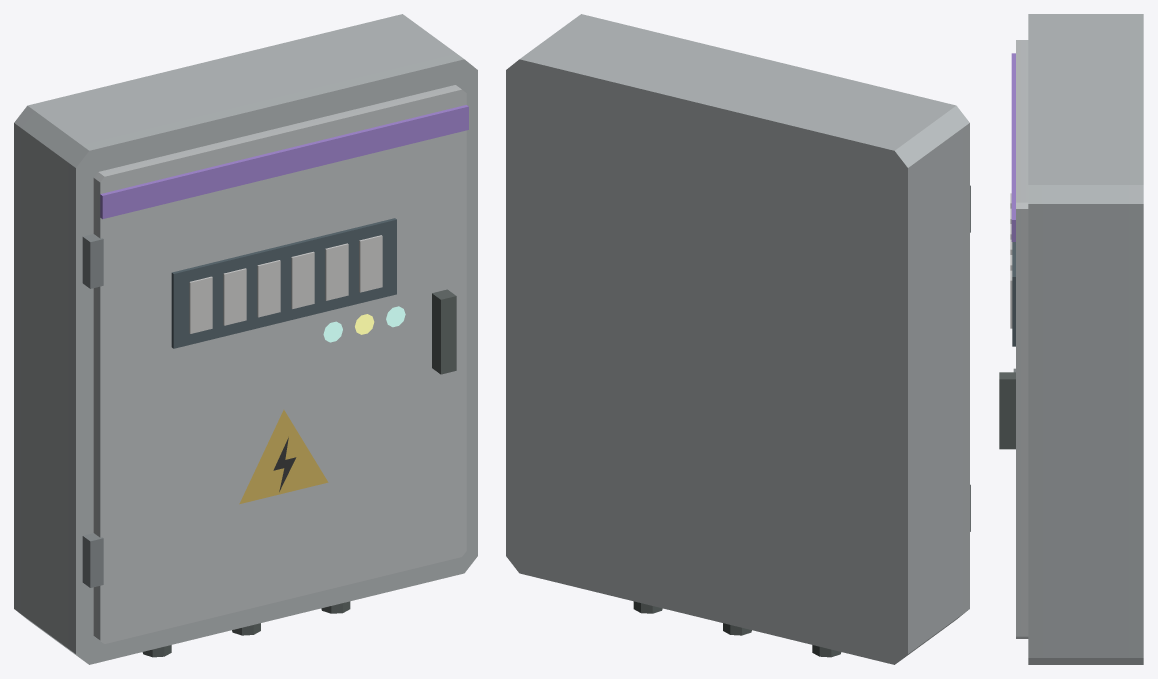
The model's file is switchboard.glb.
3 views of the same model, side by side, from view 1: azimuth 30°, elevation 25°; view 2: azimuth 150°, elevation 25°; view 3: azimuth 270°, elevation 25° (orthographic). The views are drawn at different scales.
Visible parts, largest first — view 1: body, pilots; view 2: body; view 3: body.
Boxes of the visible parts, left/top/right/bottom form: body: left=14, top=14, right=477, bottom=664; pilots: left=323, top=306, right=405, bottom=342; body: left=506, top=14, right=970, bottom=664; body: left=999, top=14, right=1143, bottom=664.
Size of the model in its own units: 0.9002 by 1.17 by 0.3.
